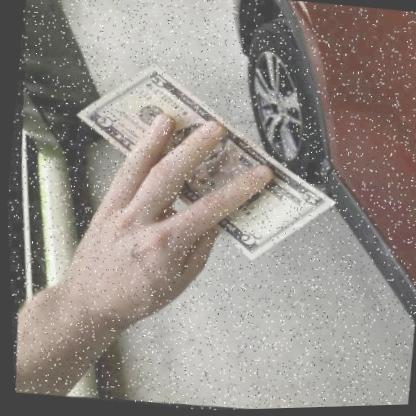five-front: (72, 64, 332, 262)
